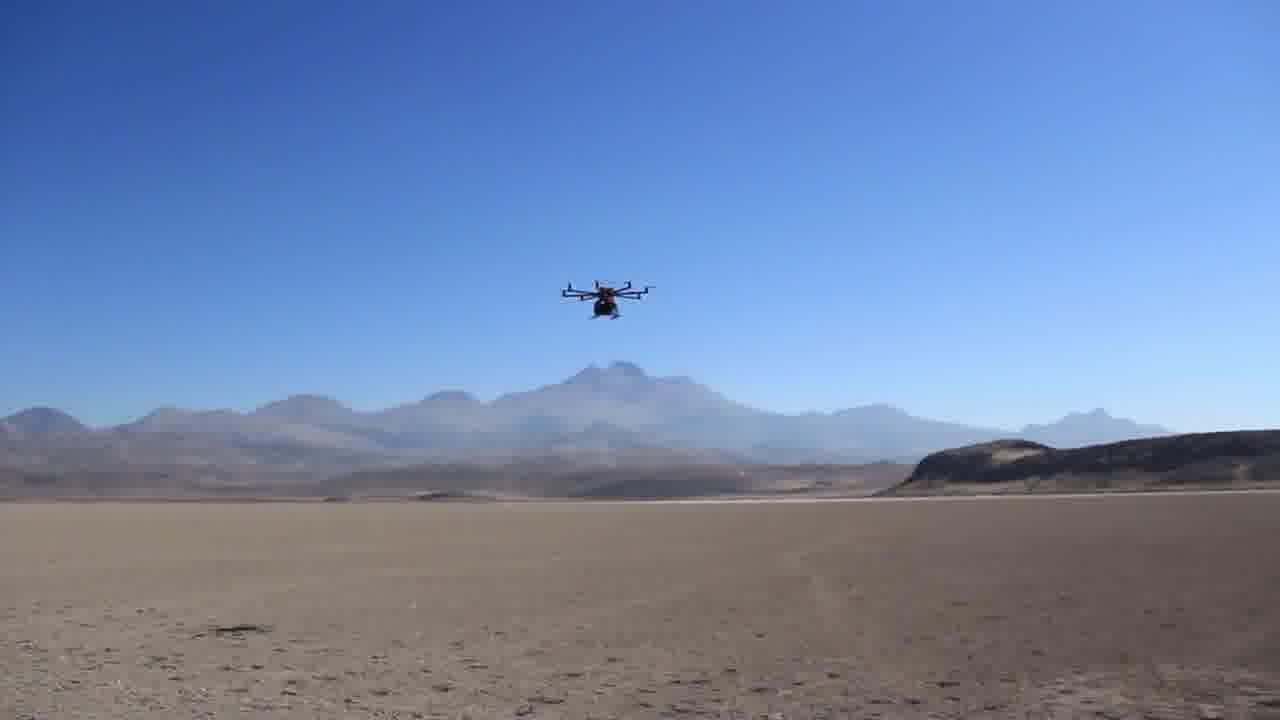drone: (553, 264, 658, 327)
